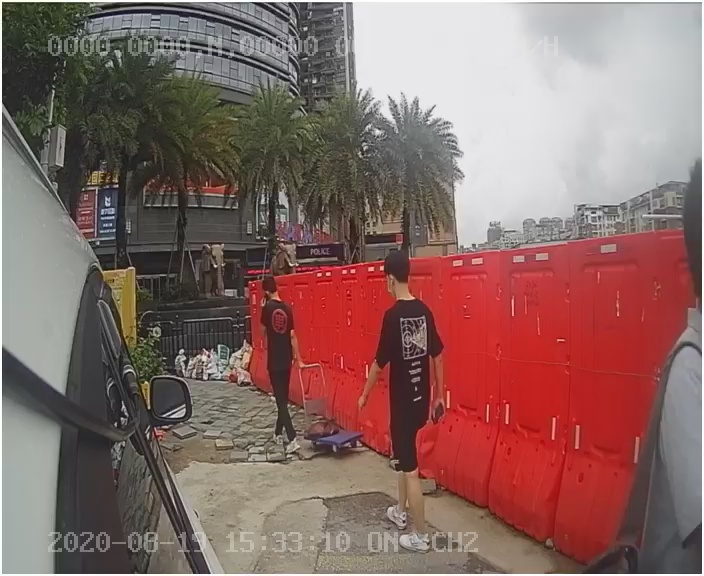person: (351, 252, 467, 489), (249, 278, 306, 461)
